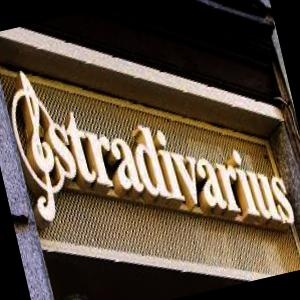stradivarius: (1, 201, 300, 256)
